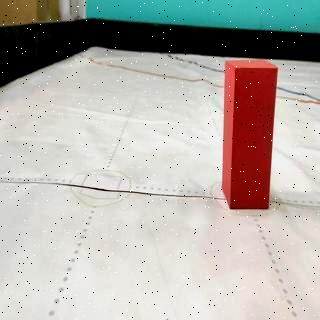redbox: (220, 58, 278, 210)
